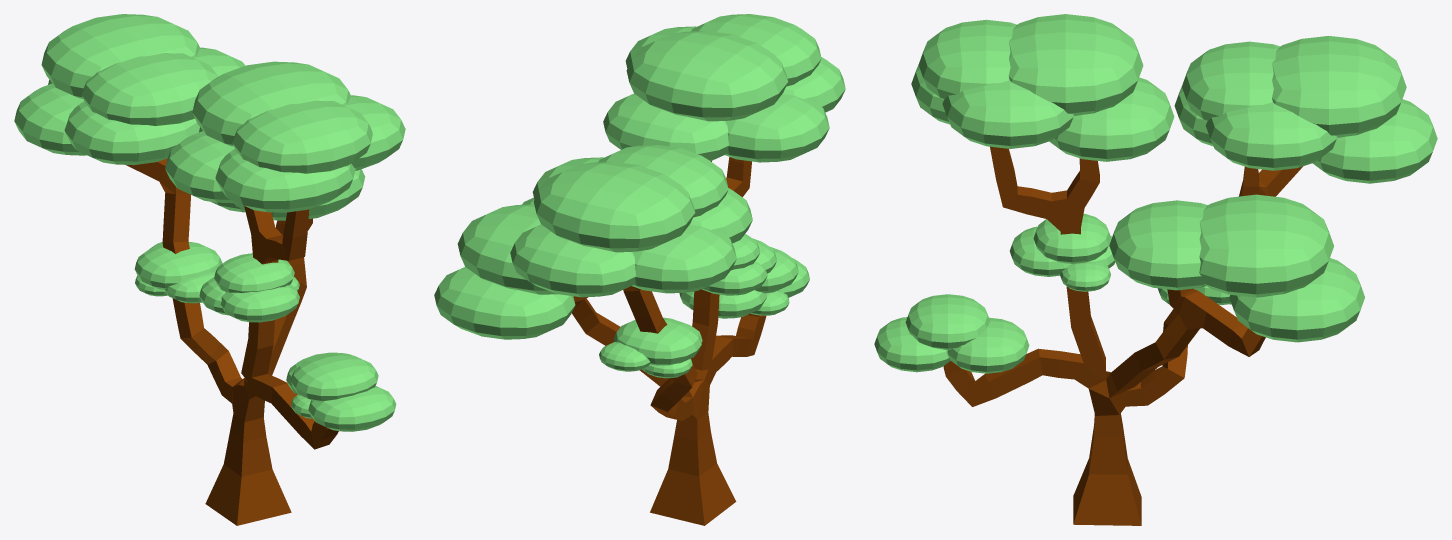
The model's file is tree0.glb.
3 renders of one model, left to right at view 1: azimuth 30°, elevation 25°; view 2: azimuth 150°, elevation 25°; view 3: azimuth 270°, elevation 25°, orthographic. The views are drawn at different scales.
Parts seen in each view (by area): view 1: Plane, Cube.008, Cube.018, Cube.019, Cube.009, Cube.011, Cube.021, Cube, Cube.020, Cube.010, Cube.002, Cube.023 (+7 smaller); view 2: Plane, Cube.019, Cube.009, Cube.004, Cube.017, Cube.020, Cube.010, Cube.007, Cube.006, Cube.008, Cube.018, Cube.023 (+12 smaller); view 3: Plane, Cube.006, Cube.009, Cube.019, Cube.005, Cube.004, Cube.022, Cube.012, Cube.007, Cube.017, Cube.008, Cube.018 (+8 smaller).
Boxes of the visible parts, x1,y1,x2,y2 form: Plane: [126, 158, 338, 525]; Cube.008: [232, 100, 372, 173]; Cube.018: [81, 53, 218, 125]; Cube.019: [41, 14, 200, 98]; Cube.009: [192, 61, 351, 146]; Cube.011: [215, 149, 355, 212]; Cube.021: [64, 101, 199, 165]; Cube: [290, 354, 378, 401]; Cube.020: [14, 83, 86, 155]; Cube.010: [165, 131, 237, 203]; Cube.002: [308, 386, 396, 431]; Cube.023: [134, 242, 222, 289]; Plane: [572, 157, 766, 525]; Cube.019: [533, 161, 695, 252]; Cube.009: [626, 31, 788, 121]; Cube.004: [434, 267, 575, 339]; Cube.017: [510, 224, 635, 297]; Cube.020: [632, 225, 736, 293]; Cube.010: [725, 94, 829, 162]; Cube.007: [603, 93, 728, 161]; Cube.006: [457, 204, 557, 294]; Cube.008: [691, 14, 821, 86]; Cube.018: [598, 145, 728, 217]; Cube.023: [613, 317, 701, 365]; Plane: [943, 146, 1302, 525]; Cube.006: [1199, 194, 1333, 297]; Cube.009: [1008, 14, 1143, 115]; Cube.019: [1272, 36, 1406, 137]; Cube.005: [1109, 200, 1207, 290]; Cube.004: [1229, 258, 1364, 342]; Cube.022: [1205, 102, 1337, 170]; Cube.012: [942, 80, 1074, 148]; Cube.007: [1049, 77, 1174, 161]; Cube.017: [1312, 99, 1437, 183]; Cube.008: [918, 19, 1016, 99]; Cube.018: [1181, 41, 1279, 121].
Bounding box in the file's own units: 6.33 × 9.2 × 9.74.
